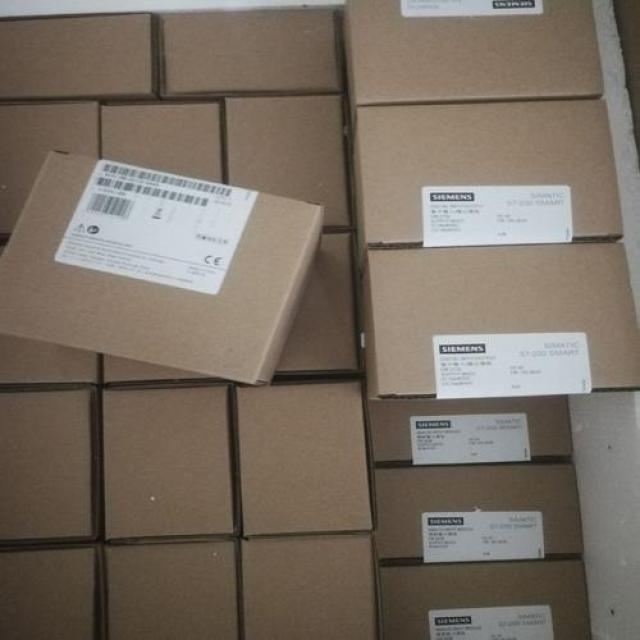box: (0, 148, 322, 385), (350, 100, 626, 273), (356, 243, 639, 399), (338, 0, 604, 143), (371, 463, 584, 564), (99, 385, 234, 544), (235, 383, 373, 538), (222, 94, 353, 230), (158, 7, 343, 100), (377, 560, 592, 639), (0, 387, 95, 547), (239, 533, 381, 637), (366, 399, 573, 468), (1, 14, 159, 103), (101, 542, 241, 638), (0, 102, 101, 233), (277, 233, 362, 376), (101, 102, 223, 183), (0, 545, 105, 638), (0, 335, 98, 388), (101, 357, 227, 387)
